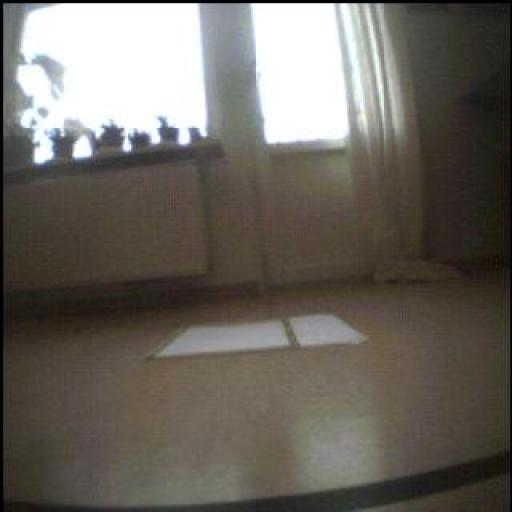Pad: (149, 322, 303, 360)
